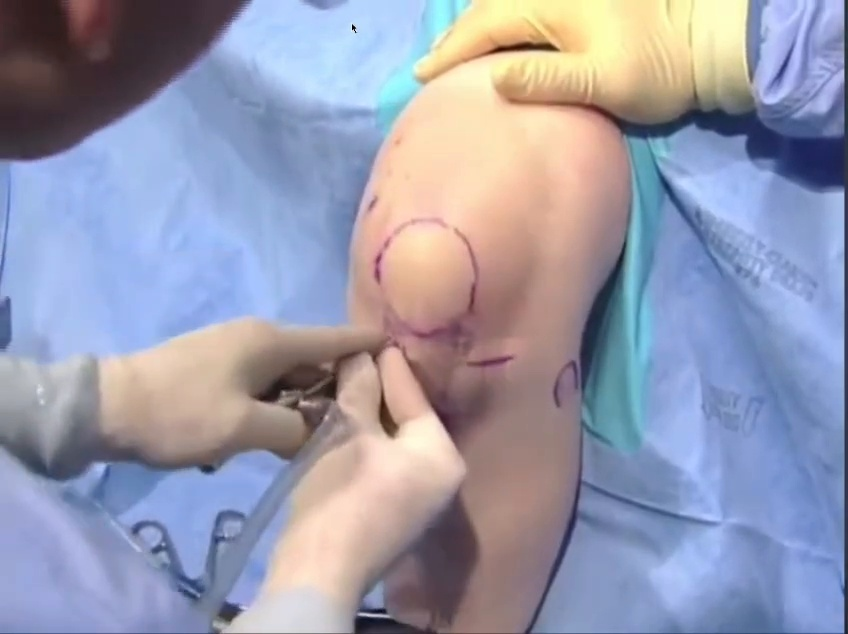arthroscope: (23, 196, 402, 500), (628, 0, 848, 154)
probe: (775, 170, 848, 597), (634, 129, 790, 298), (104, 130, 192, 241)
